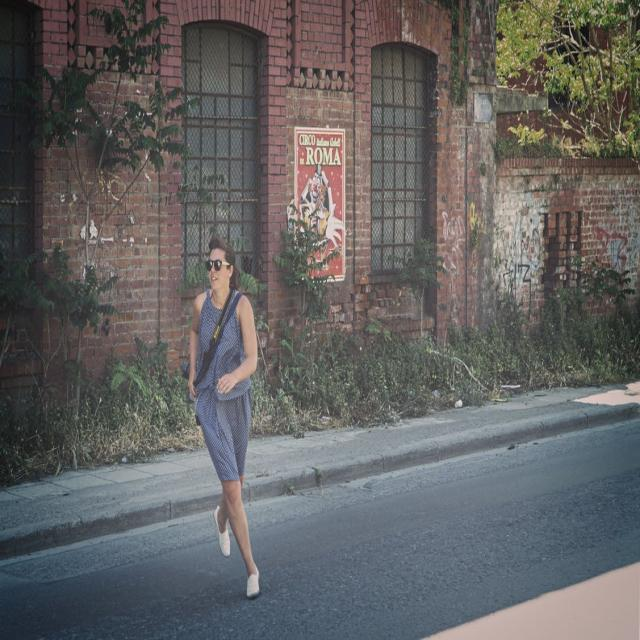running: (184, 232, 264, 600)
